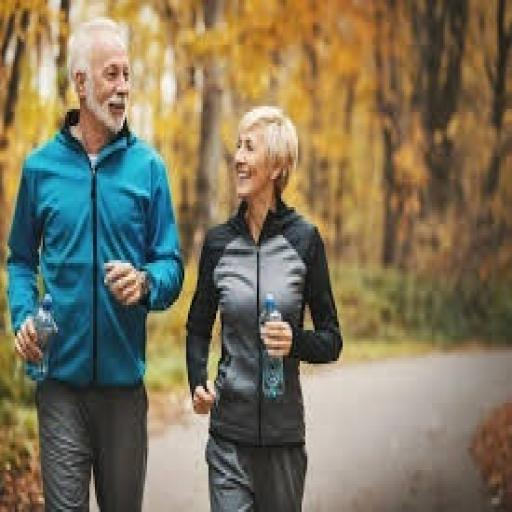running: (4, 14, 186, 509), (184, 104, 344, 509)
